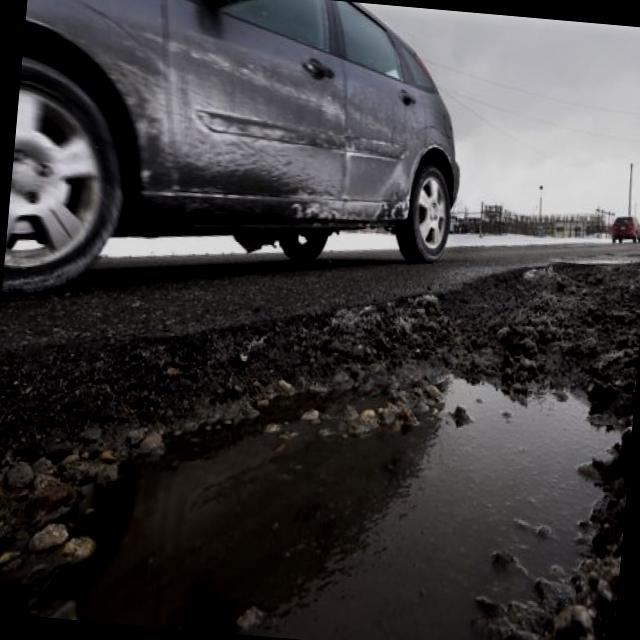bad-road: (0, 341, 634, 640), (127, 220, 640, 393)
